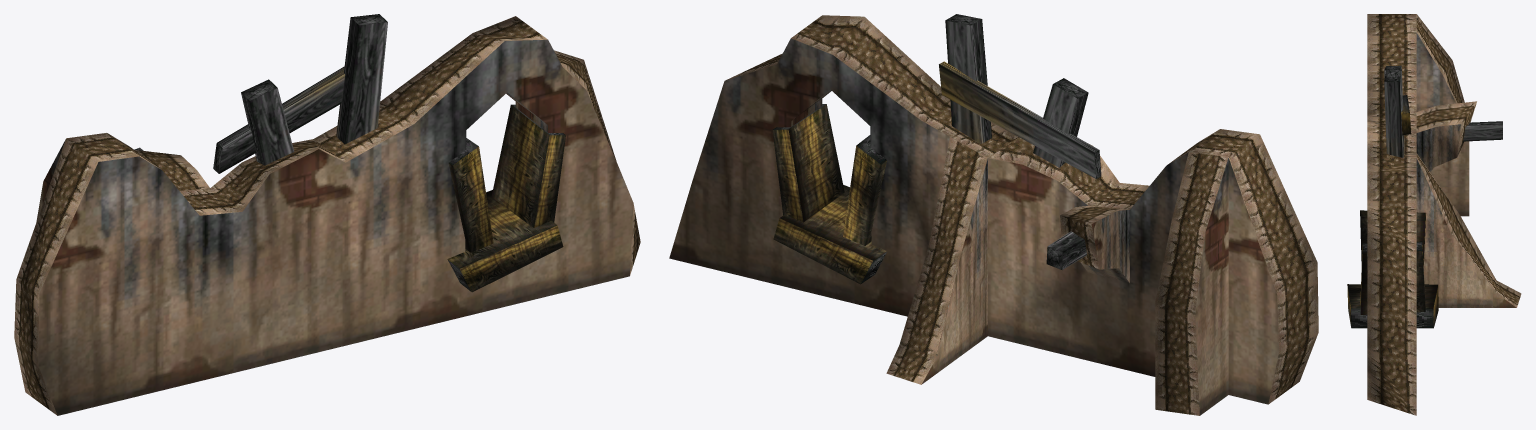
File: CB_BRKN_BUILDING02_CM.fbx
3 renders of one model, left to right at view 1: azimuth 30°, elevation 25°; view 2: azimuth 150°, elevation 25°; view 3: azimuth 270°, elevation 25°, orthographic. The views are drawn at different scales.
Visible parts, largest first — view 1: CB_BRKN_BUILDING02_CM; view 2: CB_BRKN_BUILDING02_CM; view 3: CB_BRKN_BUILDING02_CM.
Part boxes in pixels (box(x1,y1,x2,y2)): CB_BRKN_BUILDING02_CM: box(14, 14, 640, 415); CB_BRKN_BUILDING02_CM: box(669, 14, 1318, 415); CB_BRKN_BUILDING02_CM: box(1347, 14, 1521, 415).
Bounding box in the file's own units: 155322 × 71389 × 48127.
Materials: 5 (5 with a texture image).
